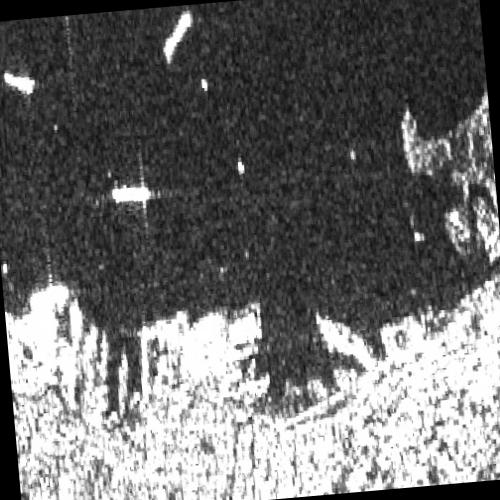ship: (161, 10, 192, 66), (111, 184, 153, 206), (2, 69, 36, 96), (117, 349, 129, 418), (67, 296, 82, 351)
